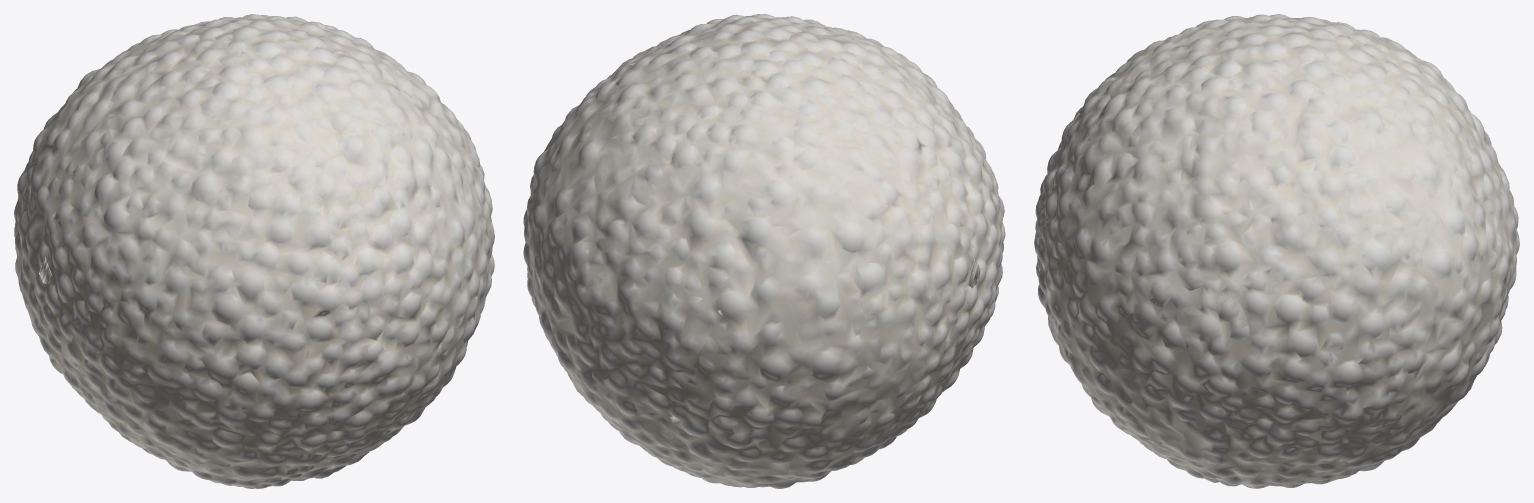
Rendered from bk-decor-sprinkle-ball.glb.
3 renders of one model, left to right at view 1: azimuth 30°, elevation 25°; view 2: azimuth 150°, elevation 25°; view 3: azimuth 270°, elevation 25°, orthographic.
Visible parts, largest first — view 1: node_0; view 2: node_0; view 3: node_0.
Part boxes in pixels (bbox=[...]): node_0: bbox=[14, 14, 494, 488]; node_0: bbox=[523, 14, 1005, 488]; node_0: bbox=[1034, 14, 1519, 488].
Bounding box in the file's own units: 1.16 × 1.14 × 1.16.
1 material, 1 textured.
